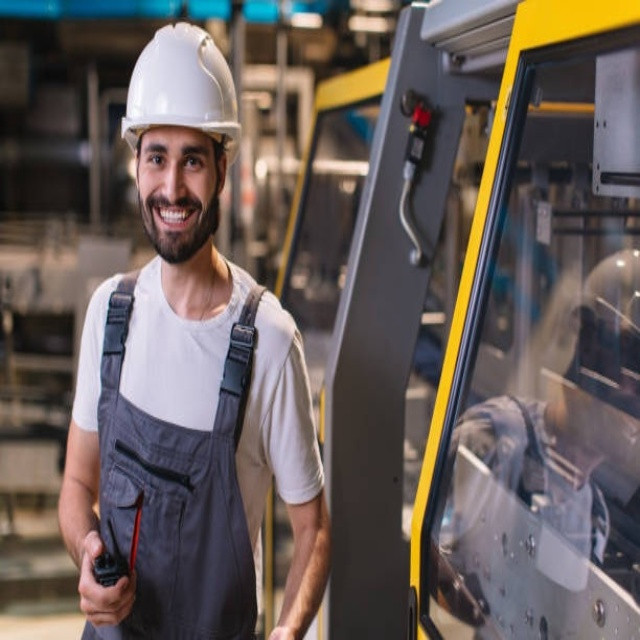Sin_gafas: (142, 138, 210, 176)
Sin_guantes: (78, 526, 136, 627)
Sin_mascara: (145, 193, 198, 240)
